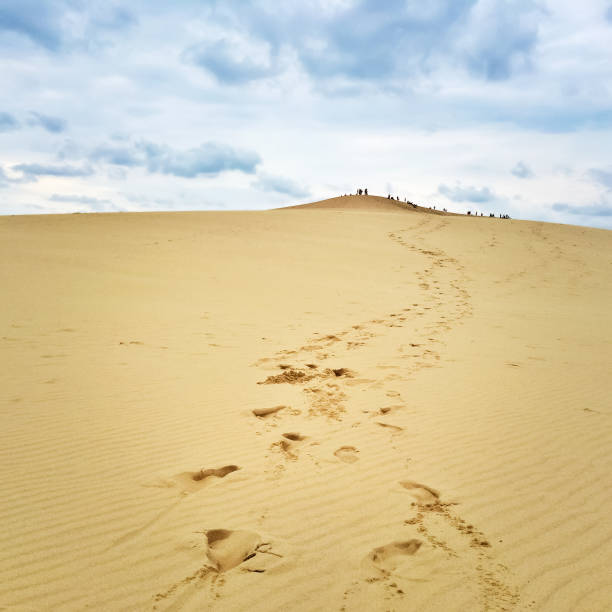human_footprint: (257, 298, 439, 447), (342, 480, 518, 609), (254, 307, 439, 419), (254, 289, 436, 383), (399, 480, 518, 608), (110, 464, 240, 547), (153, 528, 286, 608), (340, 537, 429, 611), (258, 362, 354, 419), (143, 464, 240, 493), (264, 430, 318, 478), (203, 529, 260, 571), (258, 363, 354, 384), (367, 538, 422, 573), (174, 464, 240, 491), (270, 432, 306, 459), (399, 480, 439, 503), (252, 405, 290, 419), (334, 445, 358, 462), (375, 421, 403, 433), (282, 432, 306, 441)
